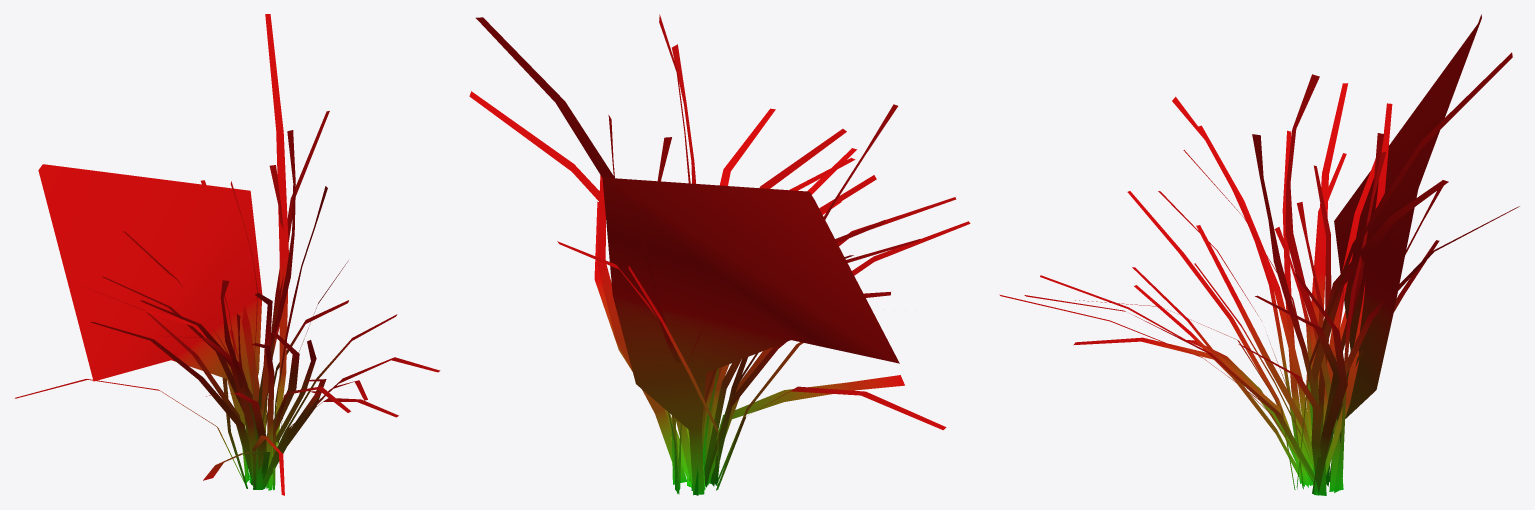
The model's file is Var3_LOD1.fbx.
3 renders of one model, left to right at view 1: azimuth 30°, elevation 25°; view 2: azimuth 150°, elevation 25°; view 3: azimuth 270°, elevation 25°, orthographic. The views are drawn at different scales.
Visible parts, largest first — view 1: _eb73_Var3_LOD1; view 2: _eb73_Var3_LOD1; view 3: _eb73_Var3_LOD1.
Part boxes in pixels (box(x1,y1,x2,y2)): _eb73_Var3_LOD1: box(15, 14, 440, 495); _eb73_Var3_LOD1: box(469, 14, 970, 495); _eb73_Var3_LOD1: box(999, 14, 1519, 495).
Size of the model in its own units: 58.3 by 64.92 by 63.13.
